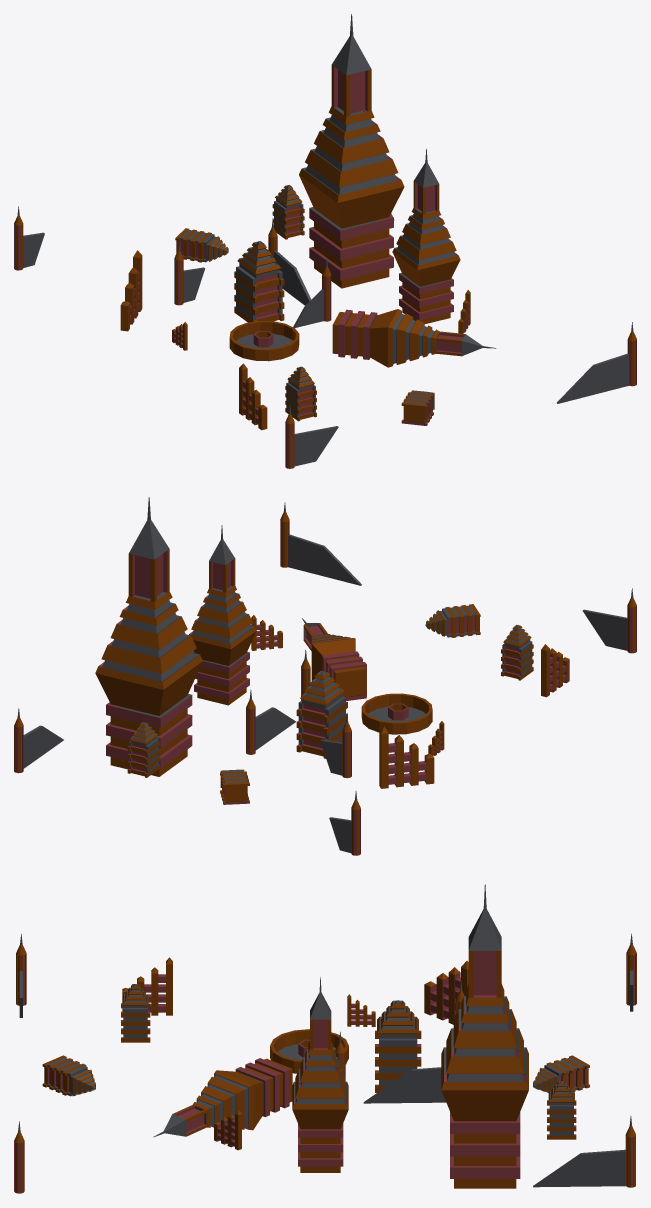
Rendered from CidadeCampinaExemplo2.fbx.
The picture shows the model from 3 angles, top to bottom: view 1: azimuth 30°, elevation 25°; view 2: azimuth 150°, elevation 25°; view 3: azimuth 270°, elevation 25°; orthographic projection. The views are drawn at different scales.
Visible parts, largest first — view 1: Cube.011, Cube.018, Cube.009, Cube.022, Cylinder.006, Cylinder.001, Cylinder.009, Cube.001, Cube.008, Cube.014, Cube.015, Cube.010 (+5 smaller); view 2: Cube.011, Cube.018, Cube.022, Cube.009, Cylinder.006, Cylinder.001, Cube.015, Cylinder.009, Cylinder.005, Cylinder.010, Cube.008, Cube.001 (+6 smaller); view 3: Cube.011, Cube.018, Cube.009, Cube.022, Cylinder.010, Cylinder.005, Cube.015, Cube.013, Cube.008, Cube.001, Cylinder.006, Cube.014 (+6 smaller).
Part boxes in pixels (box(x1,y1,x2,y2)): Cube.011: box(299, 14, 404, 288); Cube.018: box(392, 148, 460, 323); Cube.009: box(332, 309, 496, 367); Cube.022: box(234, 241, 284, 322); Cylinder.006: box(229, 321, 299, 361); Cylinder.001: box(556, 322, 636, 403); Cylinder.009: box(285, 405, 338, 468); Cube.001: box(272, 185, 304, 239); Cube.008: box(285, 366, 316, 421); Cube.014: box(175, 228, 228, 262); Cube.015: box(120, 250, 142, 331); Cube.010: box(239, 363, 267, 430); Cube.011: box(95, 497, 202, 776); Cube.018: box(189, 525, 256, 705); Cube.022: box(296, 670, 347, 758); Cube.009: box(302, 618, 366, 700); Cylinder.006: box(361, 693, 432, 734); Cylinder.001: box(280, 502, 361, 585); Cube.015: box(379, 726, 434, 788); Cylinder.009: box(582, 588, 636, 653); Cylinder.005: box(246, 689, 296, 754); Cylinder.010: box(14, 708, 63, 773); Cube.008: box(501, 624, 533, 680); Cube.001: box(127, 722, 160, 777); Cube.011: box(441, 884, 528, 1188); Cube.018: box(292, 977, 348, 1172); Cube.009: box(153, 1058, 292, 1137); Cube.022: box(375, 1000, 421, 1092); Cylinder.010: box(533, 1115, 635, 1187); Cylinder.005: box(363, 1067, 446, 1103); Cube.015: box(424, 961, 468, 1024); Cube.013: box(42, 1055, 95, 1096); Cube.008: box(121, 984, 150, 1042); Cube.001: box(547, 1081, 576, 1139); Cylinder.006: box(270, 1029, 348, 1073); Cube.014: box(533, 1055, 589, 1092).
Bounding box in the file's own units: 17980 × 12704 × 24655.
